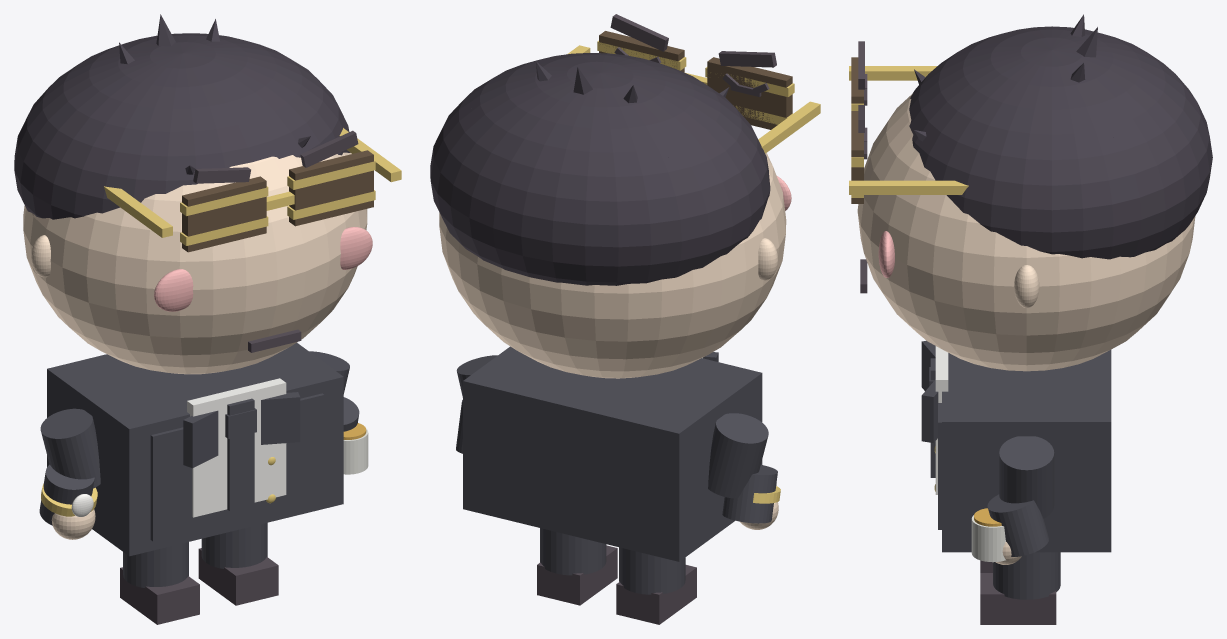
Rendered from tycoon.glb.
The picture shows the model from 3 angles, left to right: view 1: azimuth 30°, elevation 25°; view 2: azimuth 150°, elevation 25°; view 3: azimuth 270°, elevation 25°; orthographic projection. The views are drawn at different scales.
Parts seen in each view (by area): view 1: HairCap, Head, Coat, CoatFront, ShirtFront, Lens_L, Lens_R, UpperArm_L, Shoe_R, Shoe_L, Tie, Leg_R (+20 smaller); view 2: HairCap, Coat, Head, UpperArm_L, Lens_L, Leg_L, Leg_R, Shoe_L, Shoe_R, Forearm_L, Temple_L, Lens_R (+4 smaller); view 3: HairCap, Head, Coat, UpperArm_R, Leg_R, Shoe_R, Forearm_R, Temple_R, GlassCup, Temple_L, Lapel_R, Ear_R (+5 smaller).
Part boxes in pixels (box(x1,y1,x2,y2)): HairCap: box(14, 33, 350, 219); Head: box(23, 152, 367, 374); Coat: box(47, 343, 343, 556); CoatFront: box(150, 393, 324, 541); ShirtFront: box(187, 378, 286, 517); Lens_L: box(182, 176, 266, 252); Lens_R: box(289, 150, 373, 226); UpperArm_L: box(40, 408, 100, 488); Shoe_R: box(198, 548, 278, 605); Shoe_L: box(120, 567, 199, 624); Tie: box(227, 398, 254, 510); Leg_R: box(201, 522, 267, 568); HairCap: box(430, 53, 770, 285); Coat: box(463, 346, 762, 561); Head: box(439, 153, 786, 378); UpperArm_L: box(708, 413, 768, 498); Lens_L: box(707, 57, 792, 129); Leg_L: box(619, 547, 685, 594); Leg_R: box(540, 528, 606, 575); Shoe_L: box(616, 565, 696, 624); Shoe_R: box(537, 545, 617, 605); Forearm_L: box(722, 465, 777, 523); Temple_L: box(758, 101, 820, 153); Lens_R: box(599, 31, 684, 72); HairCap: box(909, 26, 1212, 259); Head: box(857, 93, 1195, 371); Coat: box(942, 350, 1111, 552); UpperArm_R: box(999, 436, 1054, 518); Leg_R: box(993, 552, 1060, 599); Shoe_R: box(980, 573, 1056, 624); Forearm_R: box(987, 494, 1048, 556); Temple_R: box(849, 180, 968, 194); GlassCup: box(971, 515, 1005, 562); Temple_L: box(849, 66, 937, 80); Lapel_R: box(921, 379, 938, 442); Ear_R: box(1014, 265, 1039, 307).
Bounding box in the file's own units: 1.2 × 1.96 × 1.14.
